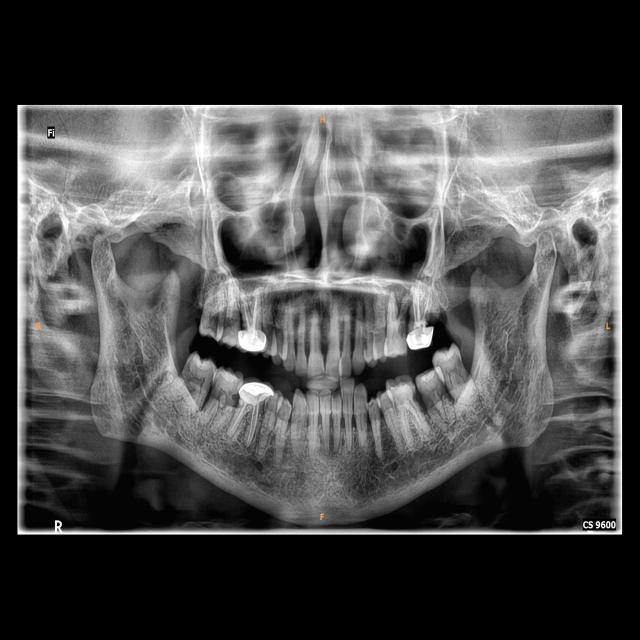kanal-tedavisi: (231, 401, 257, 446), (242, 293, 262, 332), (406, 288, 428, 323)
kaplama: (238, 380, 276, 409), (401, 323, 436, 349), (238, 325, 268, 354)
